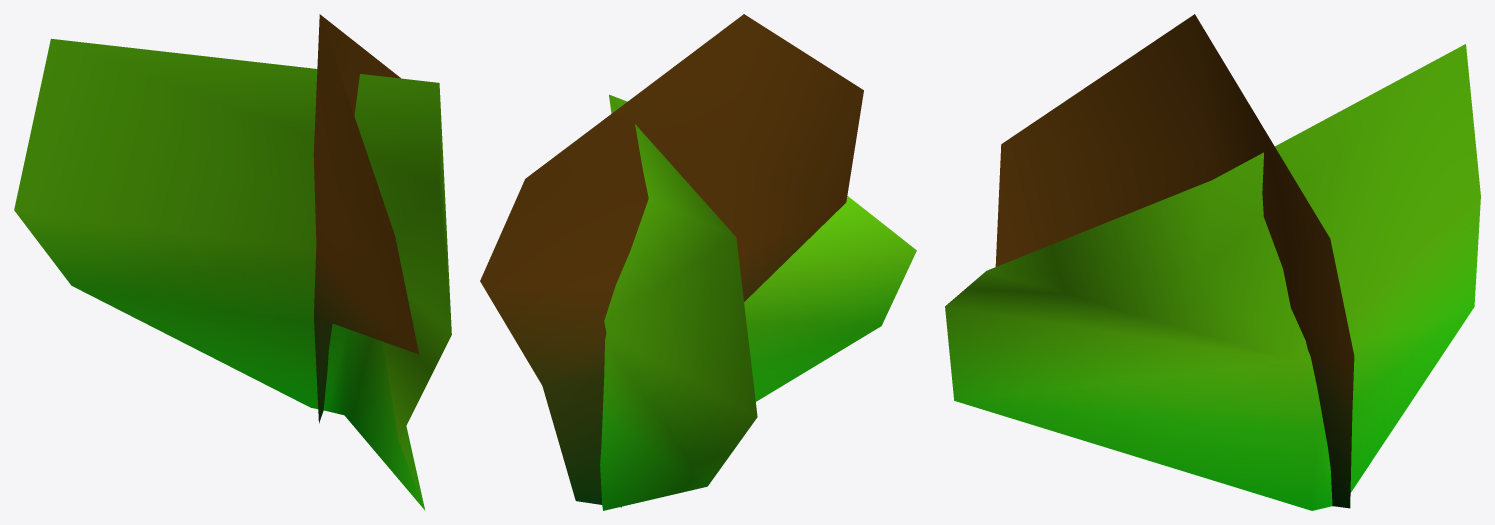
Rendered from Var1Hi18.fbx.
The picture shows the model from 3 angles, left to right: view 1: azimuth 30°, elevation 25°; view 2: azimuth 150°, elevation 25°; view 3: azimuth 270°, elevation 25°; orthographic projection. The views are drawn at different scales.
Parts seen in each view (by area): view 1: bend1; view 2: bend1; view 3: bend1.
Boxes of the visible parts, <box> form: bend1: <box>14,14,451,510</box>; bend1: <box>480,14,916,510</box>; bend1: <box>945,14,1480,510</box>.
Size of the model in its own units: 1.04 by 1.35 by 1.42.
